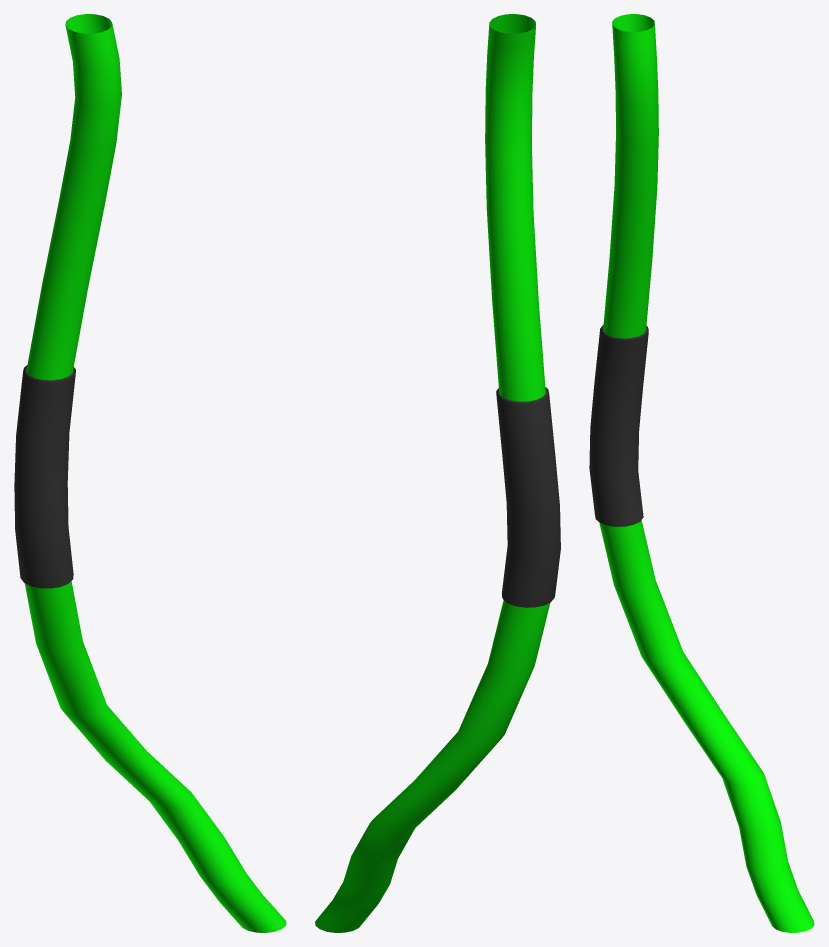
Rendered from wire_repaired_2.gltf.
3 views of the same model, side by side, from view 1: azimuth 30°, elevation 25°; view 2: azimuth 150°, elevation 25°; view 3: azimuth 330°, elevation 25° (orthographic). The views are drawn at different scales.
Parts seen in each view (by area): view 1: wire_fixed_2c.001; view 2: wire_fixed_2c.001; view 3: wire_fixed_2c.001.
Part boxes in pixels (<box>): wire_fixed_2c.001: <box>14,14,286,932</box>; wire_fixed_2c.001: <box>315,14,560,932</box>; wire_fixed_2c.001: <box>589,14,814,932</box>.
Size of the model in its own units: 0.439 by 1.56 by 0.1408.
